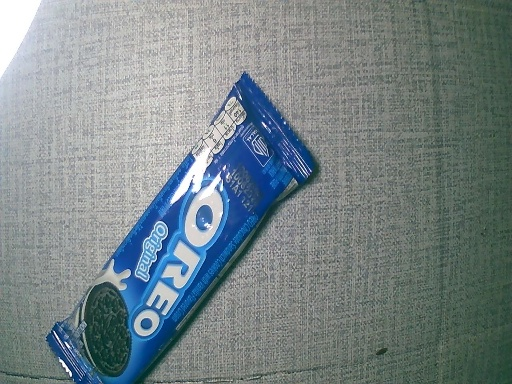plastic: (44, 64, 313, 384)
